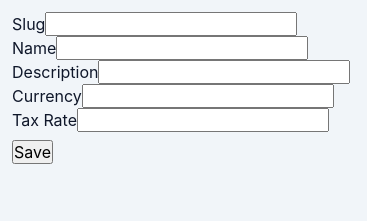
StoreForm › validates required fields and shows errors
Click the button "Save". click: click(32, 152)
box: [12, 140, 53, 164]
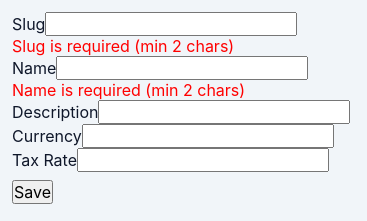
Check: the text "Slug is required (min 2 chars)" is shown, box [12, 36, 234, 56]
Check: the text "Name is required (min 2 chars)" is shown, box [12, 80, 245, 100]
